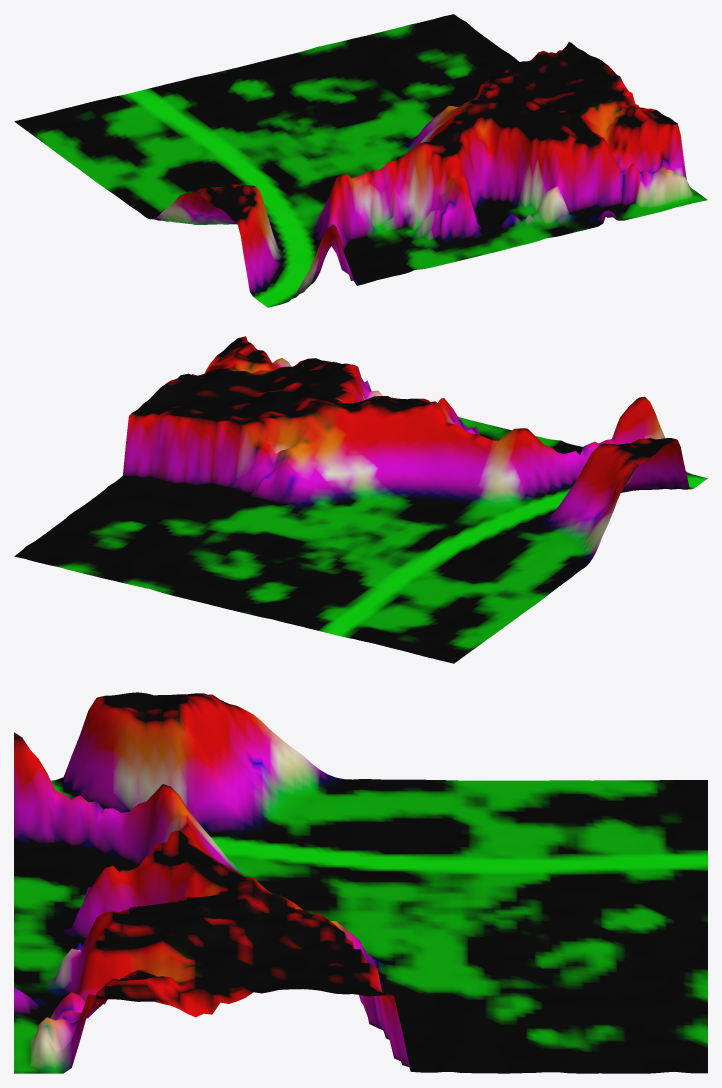
The model's file is SM_AlUla_Terrain_1_3.fbx.
3 renders of one model, top to bottom at view 1: azimuth 30°, elevation 25°; view 2: azimuth 150°, elevation 25°; view 3: azimuth 270°, elevation 25°, orthographic. The views are drawn at different scales.
Visible parts, largest first — view 1: SM_AlUla_Terrain_1_3; view 2: SM_AlUla_Terrain_1_3; view 3: SM_AlUla_Terrain_1_3.
Part boxes in pixels (box(x1,y1,x2,y2)): SM_AlUla_Terrain_1_3: box(14, 14, 707, 307); SM_AlUla_Terrain_1_3: box(14, 336, 707, 663); SM_AlUla_Terrain_1_3: box(14, 692, 707, 1073).
Size of the model in its own units: 50400 by 7743 by 50400.
